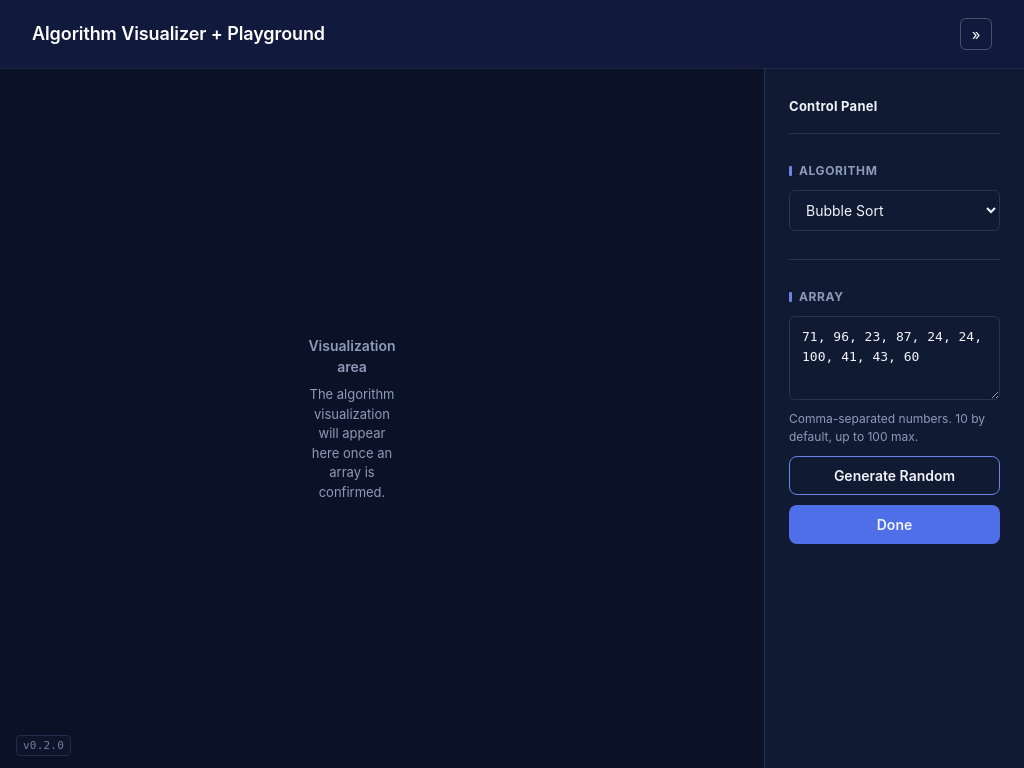
Test: Sidebar toggle — hides the sidebar › clicking the toggle collapses the sidebar and flips its accessible state
Click the button named "control panel".
click(976, 34)  # box left=960, top=18, right=992, bottom=50
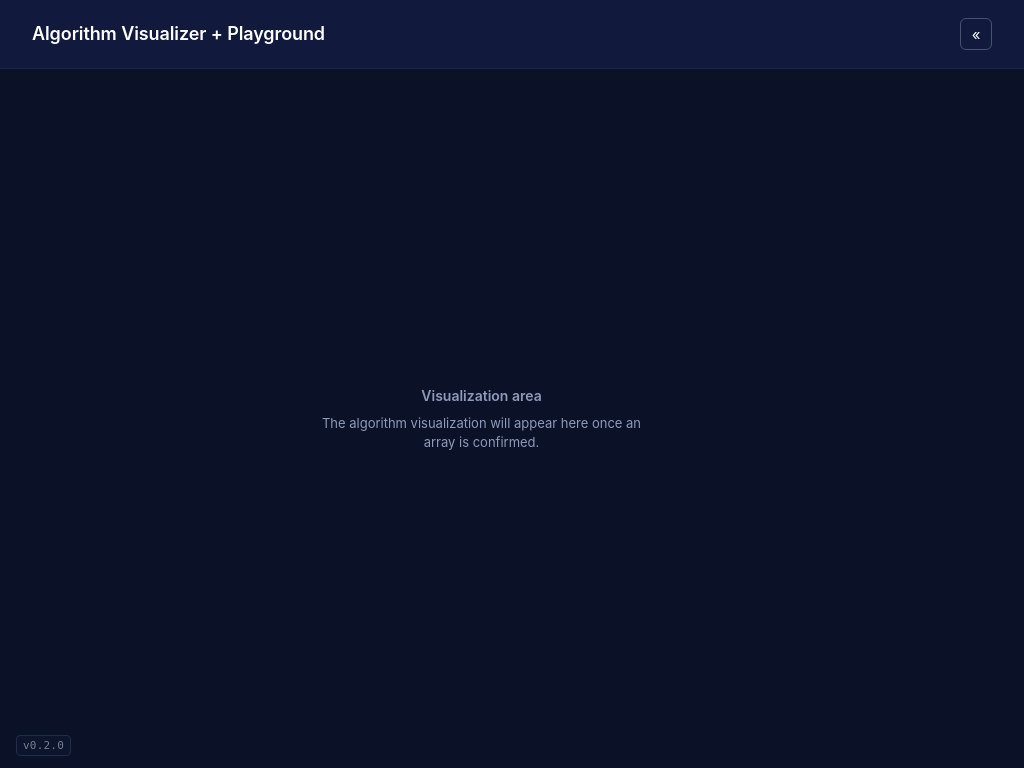
Now the button named "control panel" is collapsed, box left=960, top=18, right=992, bottom=50
